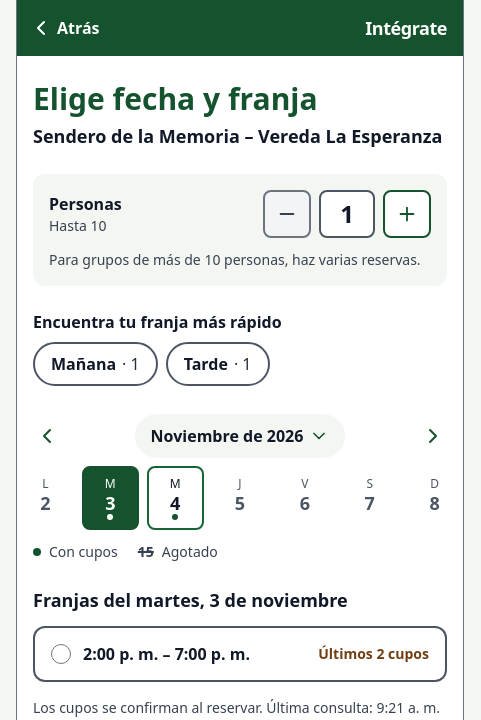
it: selector de franjas (T-1.10b) › avisa e invalida la selección cuando ya no alcanza para el grupo
The width and height of the screenshot is (481, 720).
Click the radio button: (61, 654) [51,644,71,664]
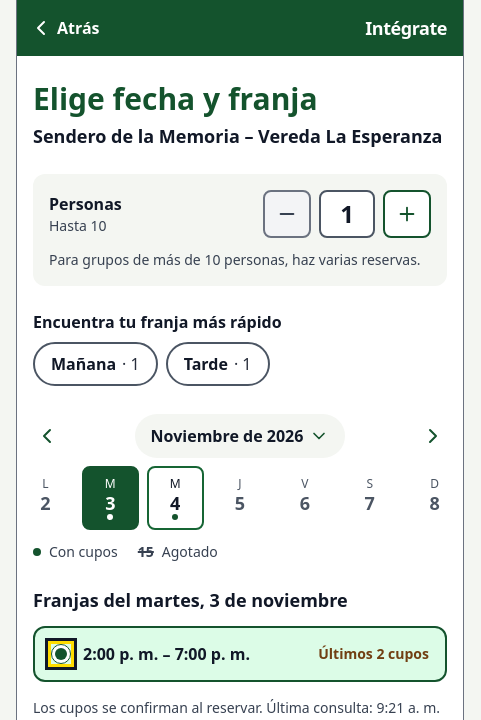
Click the button named "Agregar una persona": (407, 214) [383,190,431,238]
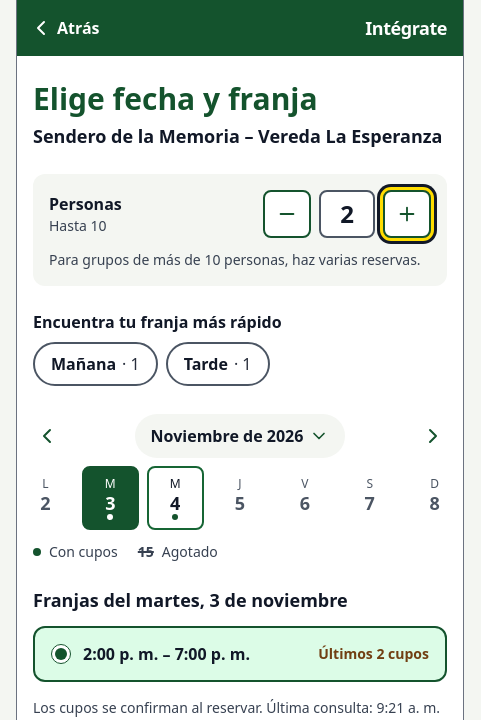
Click the button named "Agregar una persona": (407, 214) [383,190,431,238]
(page scrolled)
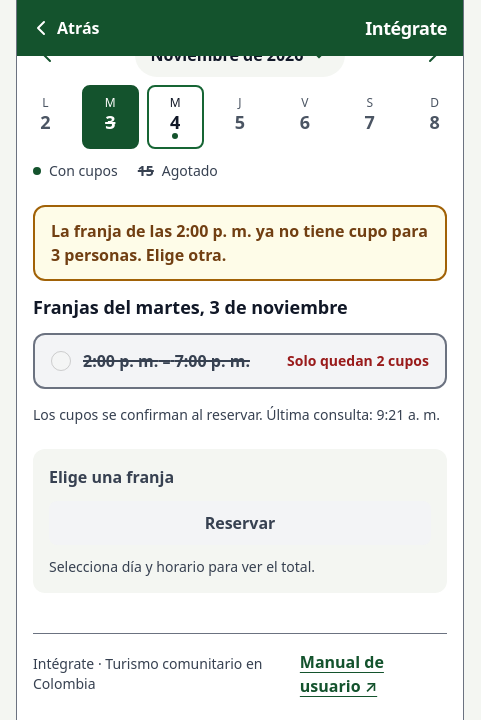
Expected: the radio button is not checked, [51,350,71,370]
Expected: the text "La franja de las 2:00 p. m. ya no tiene cupo para 3 personas. Elige otra." is shown, [33,204,447,280]
Expected: the radio button is disabled, [51,350,71,370]
